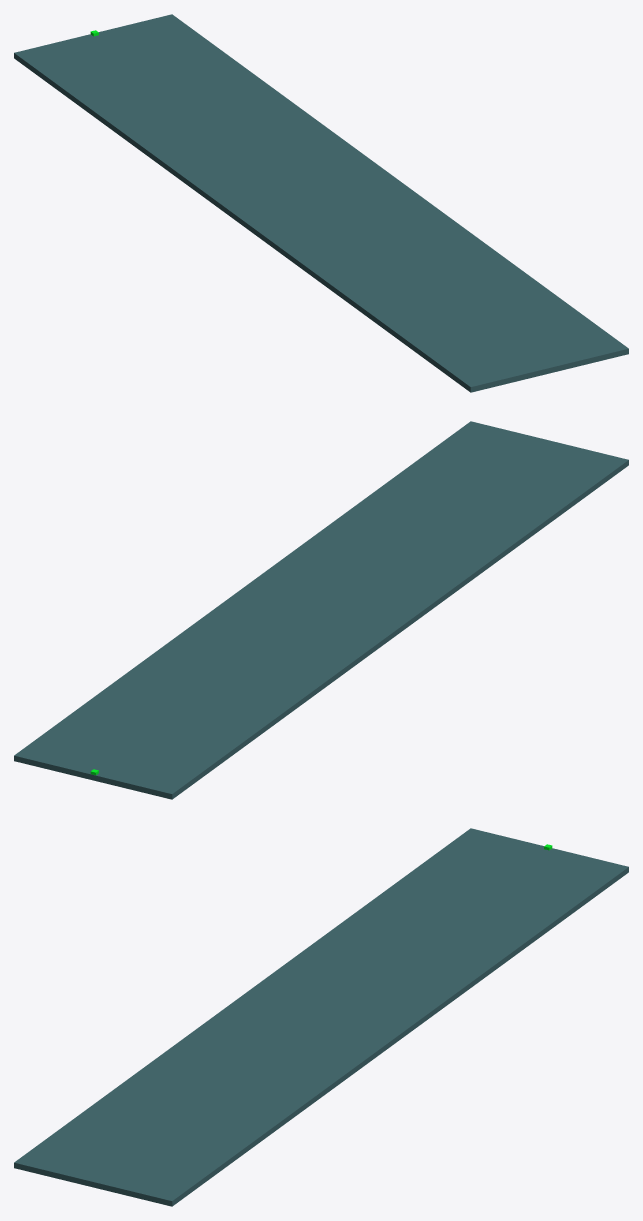
File: weg_gerade.fbx
The picture shows the model from 3 angles, top to bottom: view 1: azimuth 30°, elevation 25°; view 2: azimuth 150°, elevation 25°; view 3: azimuth 330°, elevation 25°; orthographic projection.
Parts seen in each view (by area): view 1: Cube; view 2: Cube; view 3: Cube.
Boxes of the visible parts, <box> form: Cube: <box>14,14,628,392</box>; Cube: <box>14,421,628,799</box>; Cube: <box>14,828,628,1206</box>.
Size of the model in its own units: 1200 by 60 by 6002.
